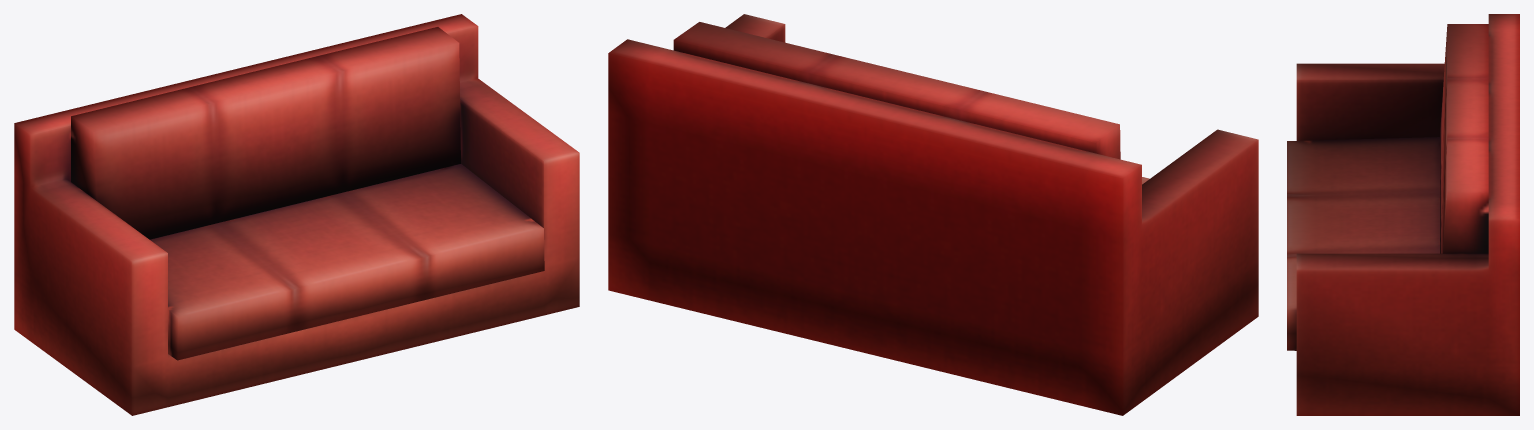
File: couch.fbx
3 renders of one model, left to right at view 1: azimuth 30°, elevation 25°; view 2: azimuth 150°, elevation 25°; view 3: azimuth 270°, elevation 25°, orthographic. The views are drawn at different scales.
Visible parts, largest first — view 1: Couch; view 2: Couch; view 3: Couch.
Part boxes in pixels (bbox=[...]): Couch: bbox=[14, 14, 579, 415]; Couch: bbox=[608, 14, 1258, 415]; Couch: bbox=[1287, 14, 1519, 415].
Bounding box in the file's own units: 6.26 × 2.88 × 2.98.
1 material, 1 textured.
